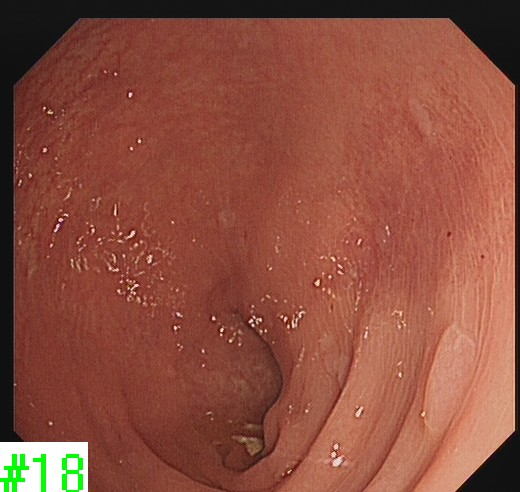adenoma: (418, 321, 477, 436)
